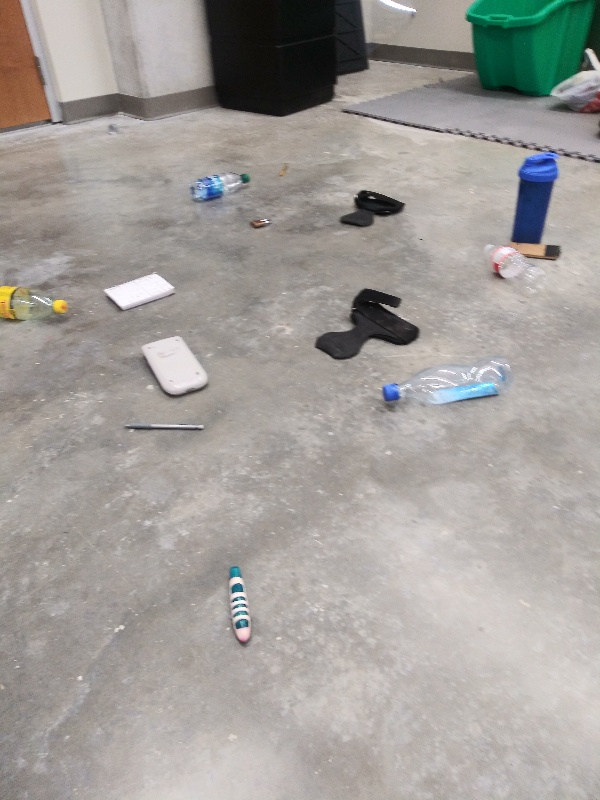bottle: (376, 355, 518, 409), (479, 235, 549, 295), (1, 282, 81, 325), (184, 168, 250, 203)
